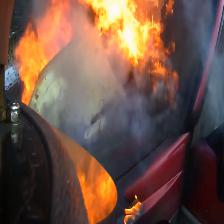fire: (0, 0, 196, 129)
